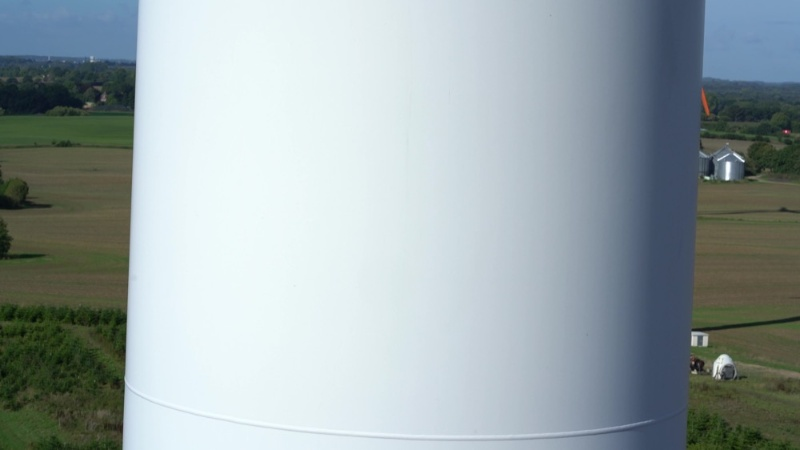weldseam: (122, 375, 687, 445)
